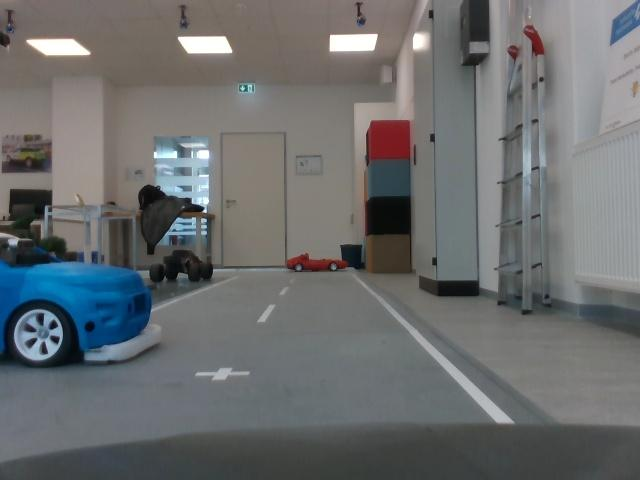car: (1, 228, 171, 366), (151, 244, 214, 287), (284, 248, 351, 278)
potted plant: (1, 213, 81, 258)
